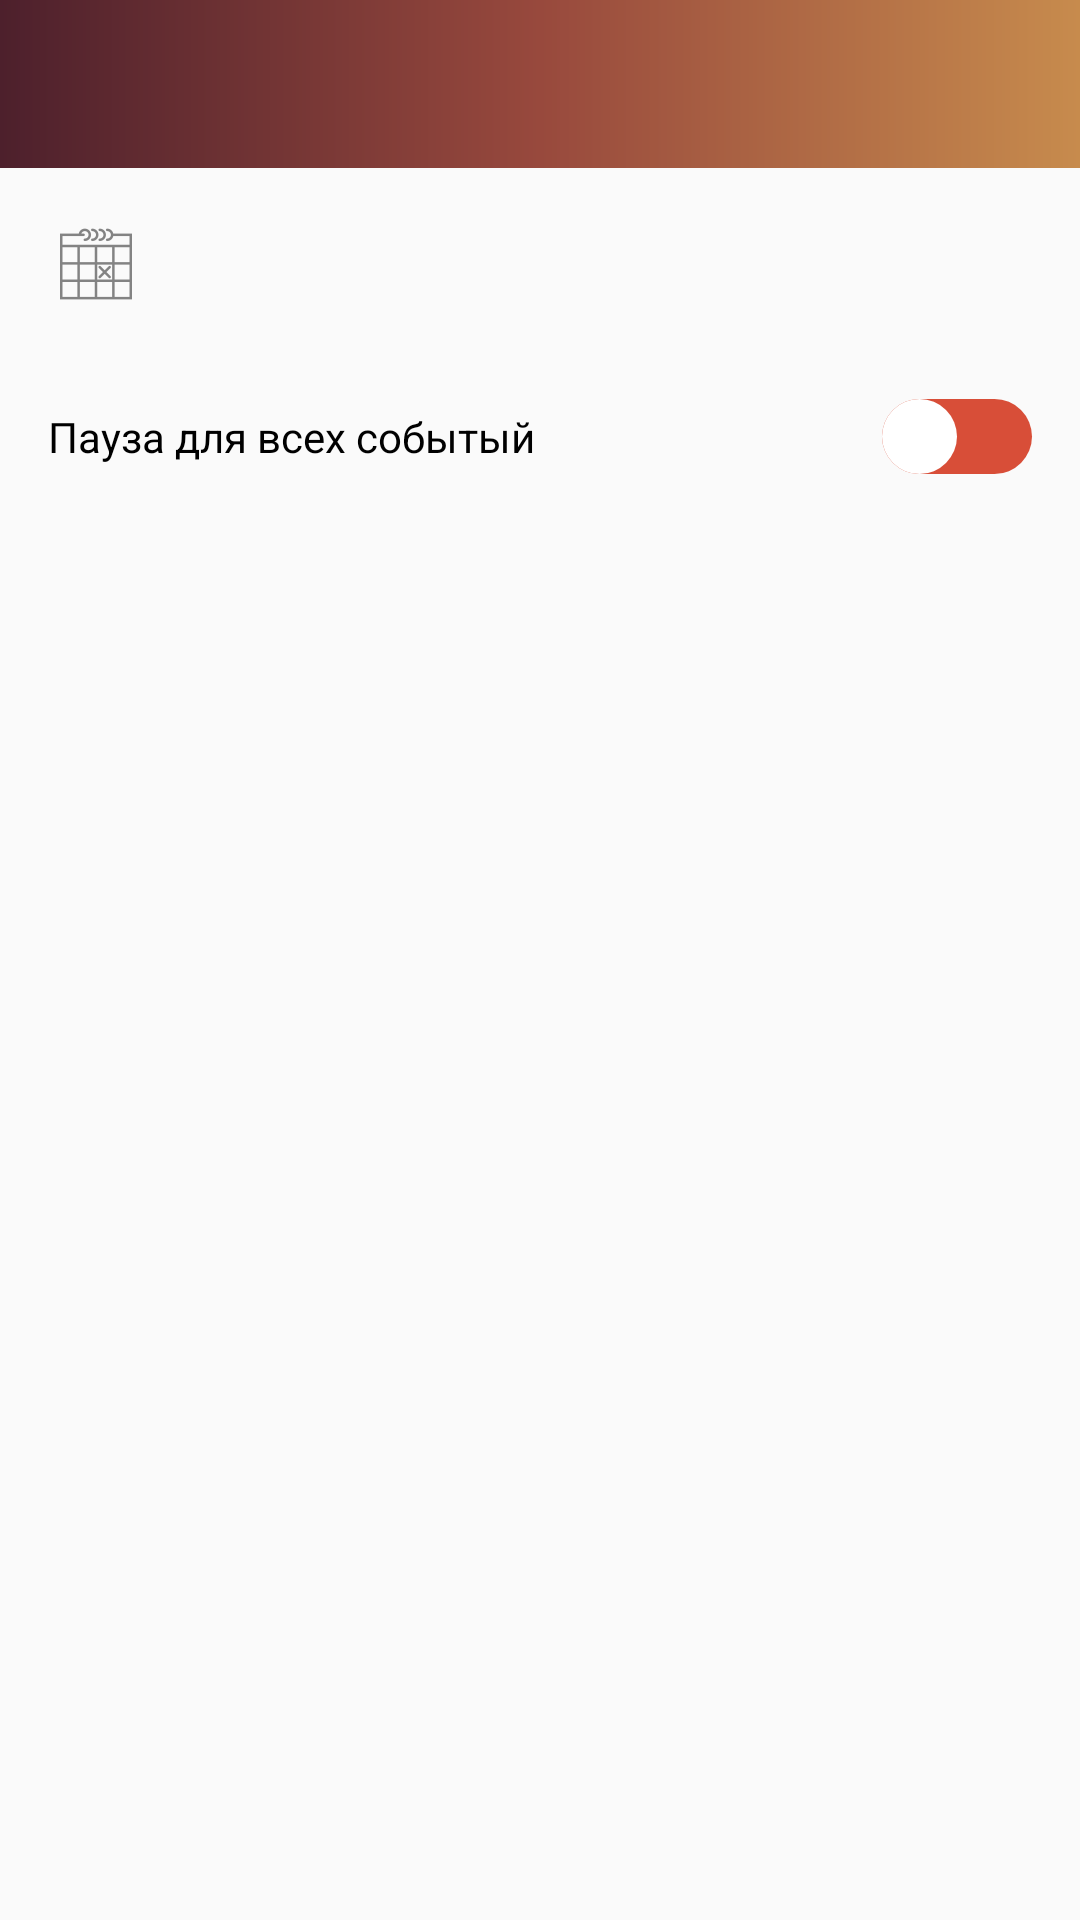

Icons on this 1080px×1920px Android screen, each with the point to tap as (x,y):
calendar: (96,264)
